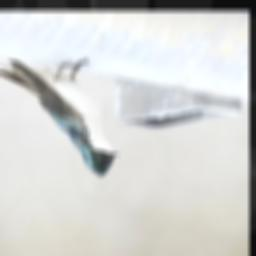Swallow: (0, 54, 121, 180)
